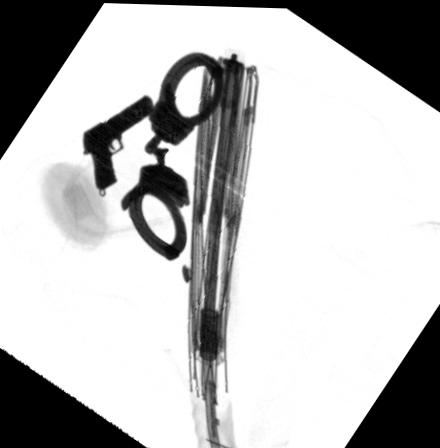Gun: (80, 92, 158, 189)
HandCuffs: (119, 48, 222, 259)
